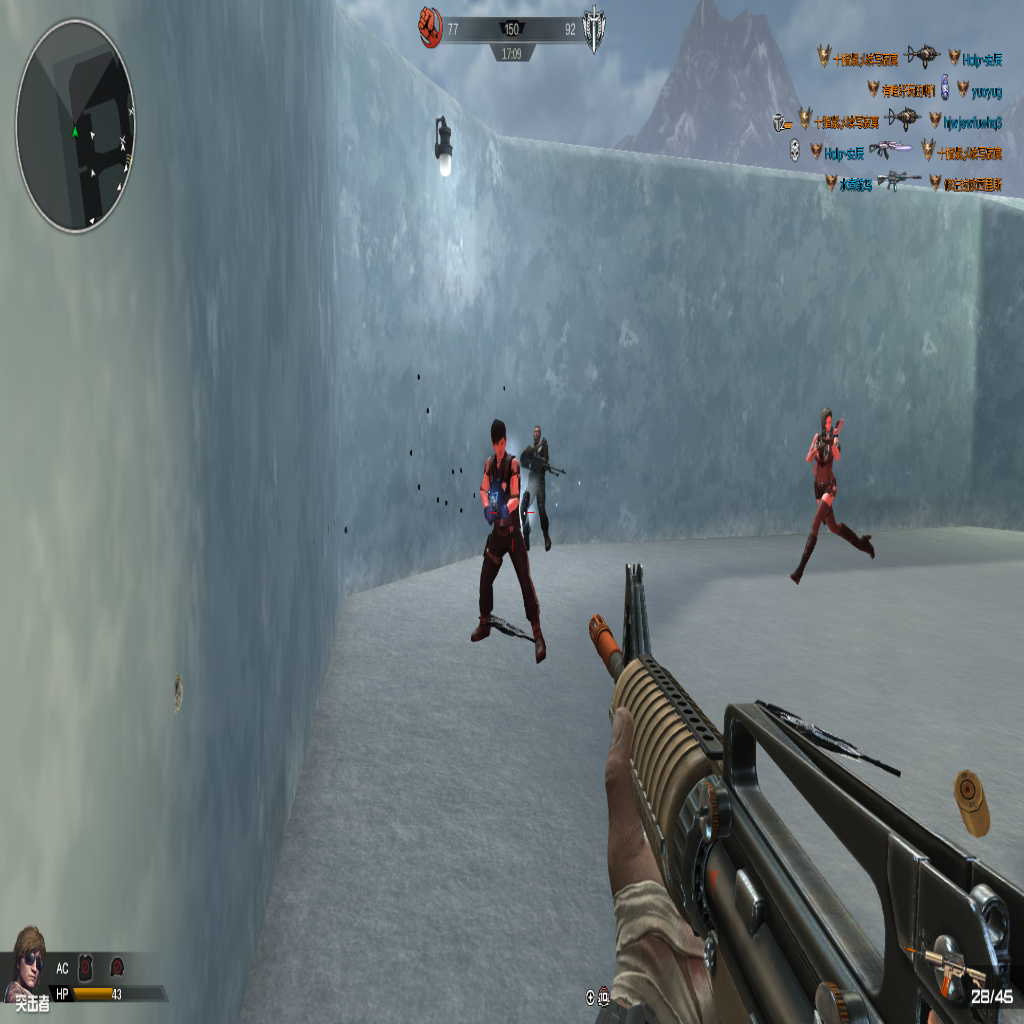ct: (789, 401, 879, 588), (479, 422, 540, 644), (519, 421, 558, 558)
